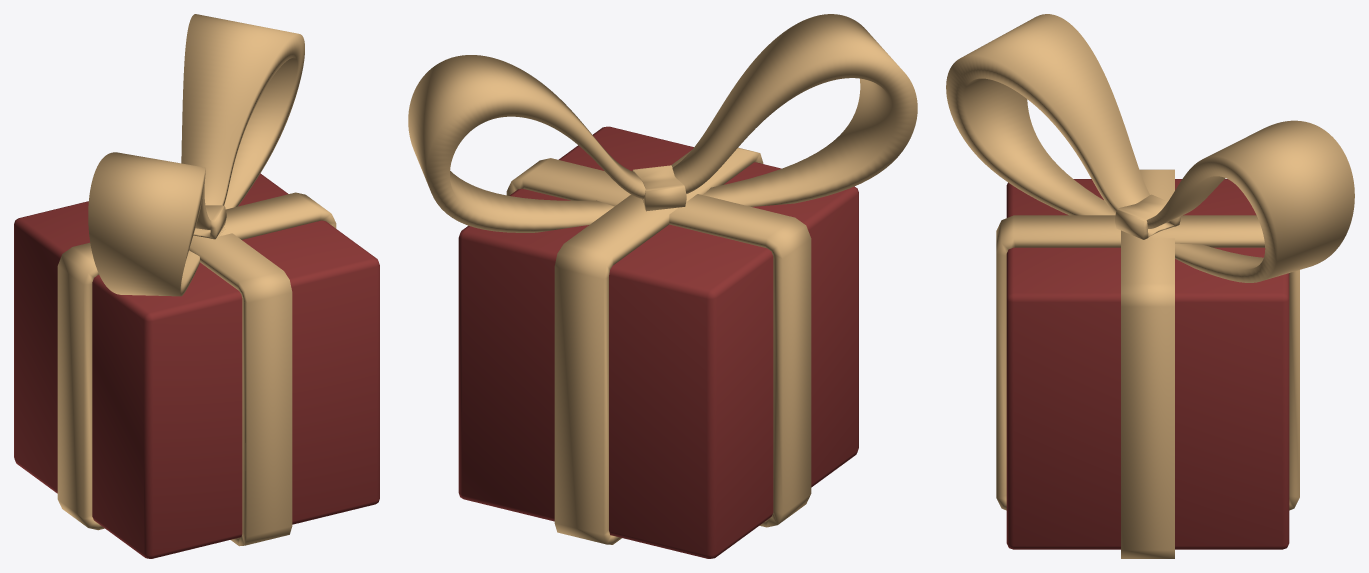
The model's file is Gift_node.fbx.
The picture shows the model from 3 angles, left to right: view 1: azimuth 30°, elevation 25°; view 2: azimuth 150°, elevation 25°; view 3: azimuth 270°, elevation 25°; orthographic projection. The views are drawn at different scales.
Visible parts, largest first — view 1: Cube, NurbsPath, Cube.001, Cube.002; view 2: Cube, NurbsPath, Cube.001, Cube.002; view 3: Cube, NurbsPath, Cube.001, Cube.002.
Boxes of the visible parts, x1=… form: Cube: x1=14, y1=173, x2=379, y2=558; NurbsPath: x1=88, y1=14, x2=304, y2=296; Cube.001: x1=57, y1=192, x2=336, y2=546; Cube.002: x1=193, y1=205, x2=226, y2=239; Cube: x1=458, y1=126, x2=858, y2=558; NurbsPath: x1=408, y1=14, x2=917, y2=232; Cube.001: x1=506, y1=147, x2=811, y2=544; Cube.002: x1=632, y1=165, x2=686, y2=211; Cube: x1=1006, y1=179, x2=1289, y2=549; NurbsPath: x1=946, y1=14, x2=1354, y2=282; Cube.001: x1=996, y1=169, x2=1299, y2=558; Cube.002: x1=1115, y1=194, x2=1180, y2=239.
Bounding box in the file's own units: 289 × 324 × 289.
